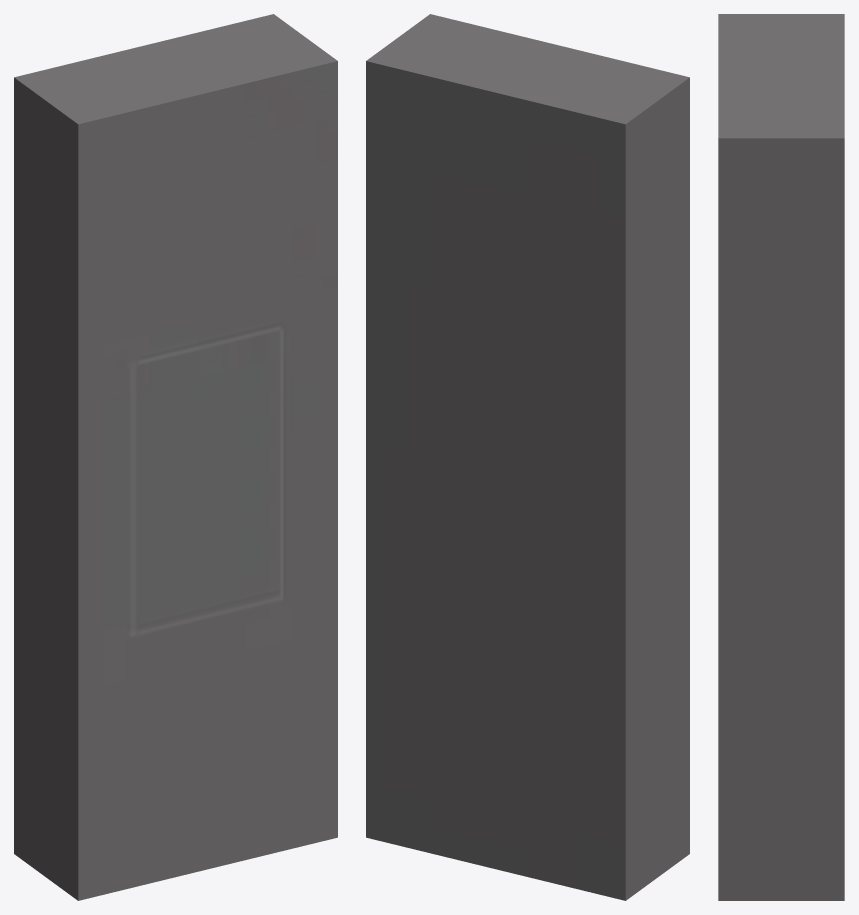
Rendered from frame__seat_bridge.glb.
3 views of the same model, side by side, from view 1: azimuth 30°, elevation 25°; view 2: azimuth 150°, elevation 25°; view 3: azimuth 270°, elevation 25° (orthographic).
Parts seen in each view (by area): view 1: world; view 2: world; view 3: world.
Boxes of the visible parts, x1,y1,x2,y2 form: world: (14,14,337,900); world: (366,14,689,900); world: (718,14,844,900).
Bounding box in the file's own units: 0.14 × 0.4 × 0.06.
1 material, 1 textured.
